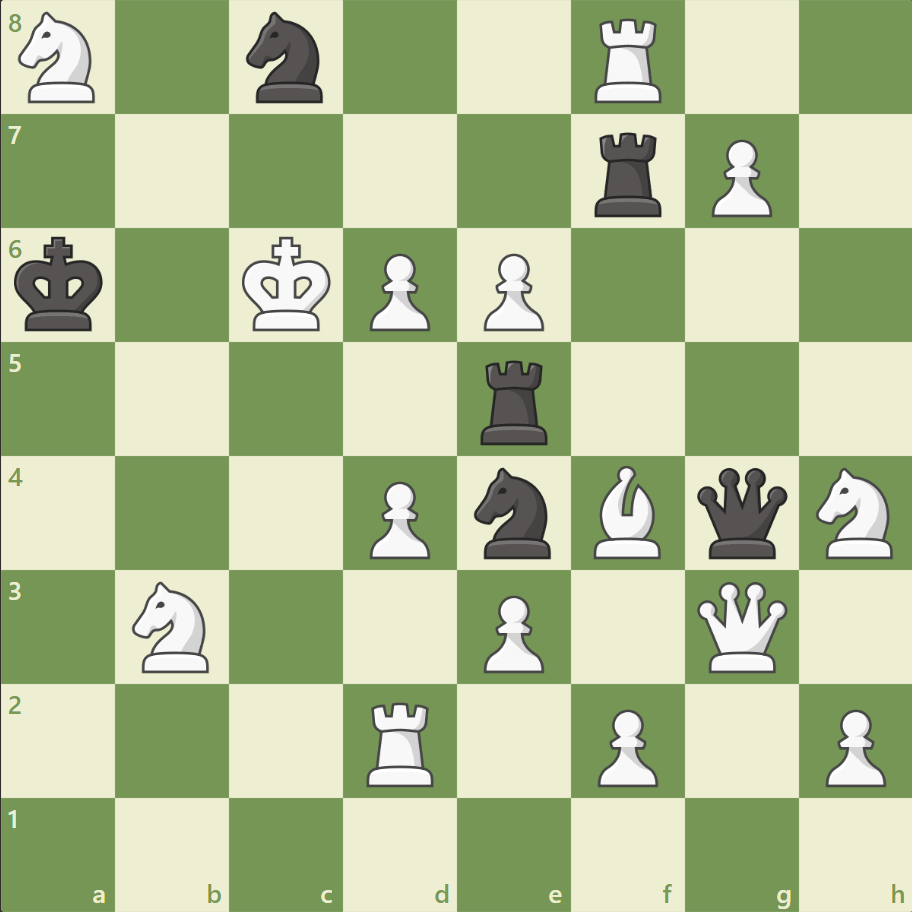B: (585, 460, 669, 563)
K: (238, 231, 338, 339)
N: (124, 575, 222, 677), (11, 7, 108, 110), (806, 461, 903, 564)
P: (701, 132, 776, 223), (474, 246, 549, 337), (474, 586, 549, 677), (361, 246, 435, 337), (361, 473, 435, 564), (588, 700, 662, 791), (815, 700, 889, 791)
Q: (691, 576, 790, 676)
R: (587, 12, 670, 109), (360, 693, 442, 790)
k: (11, 231, 111, 339)
n: (238, 7, 335, 110), (465, 461, 562, 564)
q: (691, 463, 790, 562)
r: (587, 125, 670, 222), (473, 352, 556, 449)
